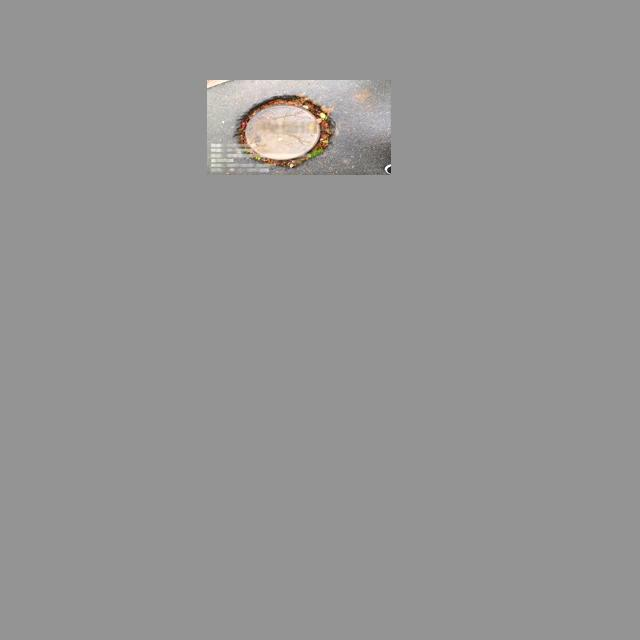circle: (232, 95, 335, 166)
